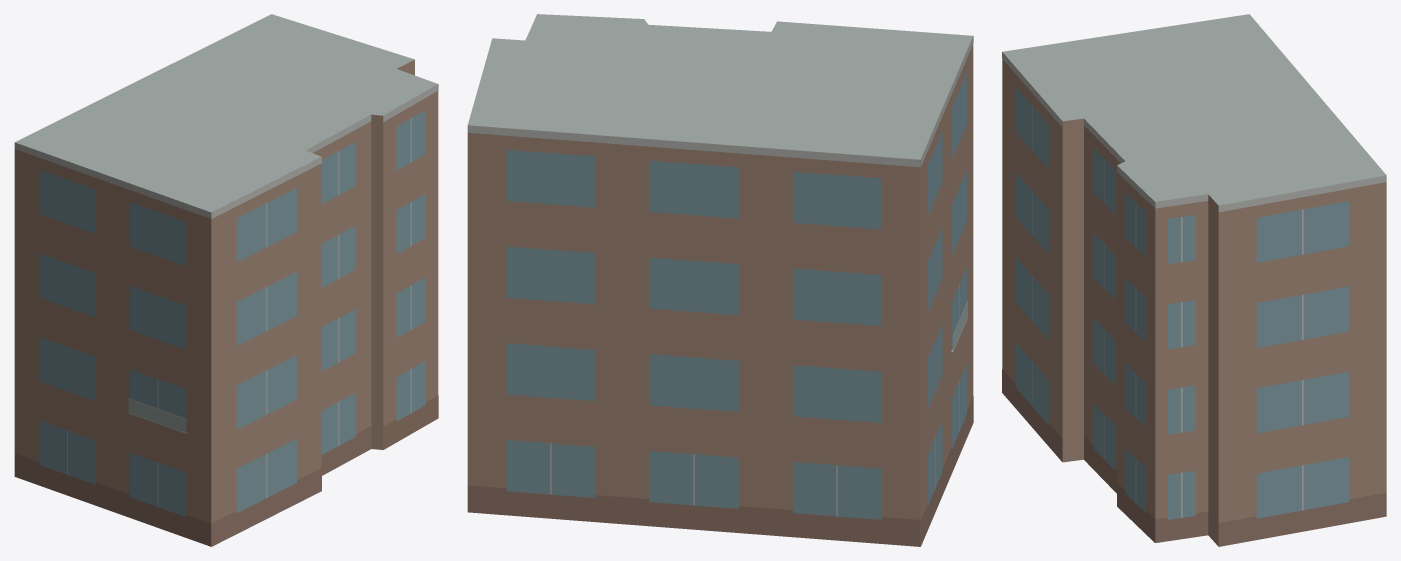
The model's file is survey-upis-32861185.glb.
The picture shows the model from 3 angles, left to right: view 1: azimuth 30°, elevation 25°; view 2: azimuth 150°, elevation 25°; view 3: azimuth 270°, elevation 25°; orthographic projection. The views are drawn at different scales.
Visible parts, largest first — view 1: survey-upis-32861185.tmp; view 2: survey-upis-32861185.tmp; view 3: survey-upis-32861185.tmp.
Boxes of the visible parts, <box> form: survey-upis-32861185.tmp: <box>14,14,438,546</box>; survey-upis-32861185.tmp: <box>467,14,973,546</box>; survey-upis-32861185.tmp: <box>1002,14,1386,546</box>.
Size of the model in its own units: 15.14 by 12.55 by 12.83.
